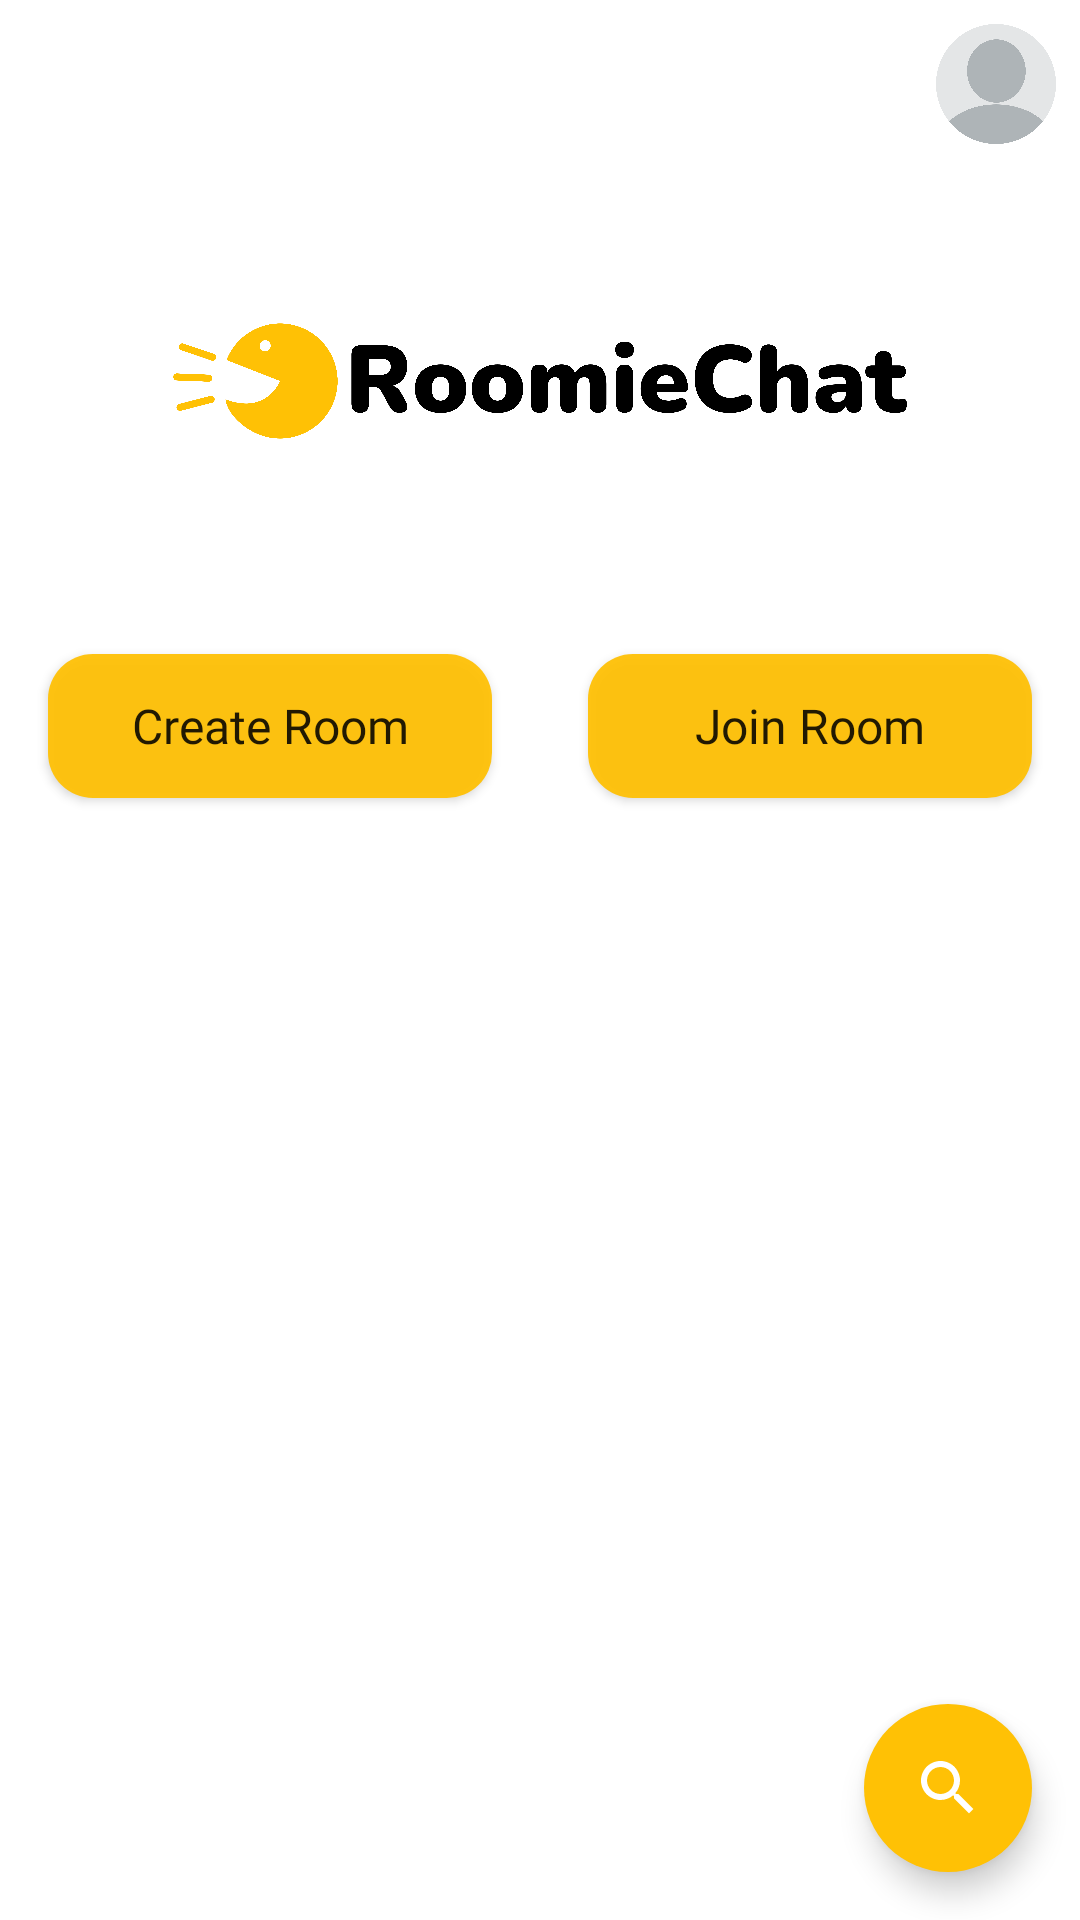

Where icons sit on this 1080 × 1920 app screen, as bbox(x1, y1, x2, y2):
profile: bbox(936, 24, 1056, 144)
search: bbox(864, 1704, 1032, 1872)
